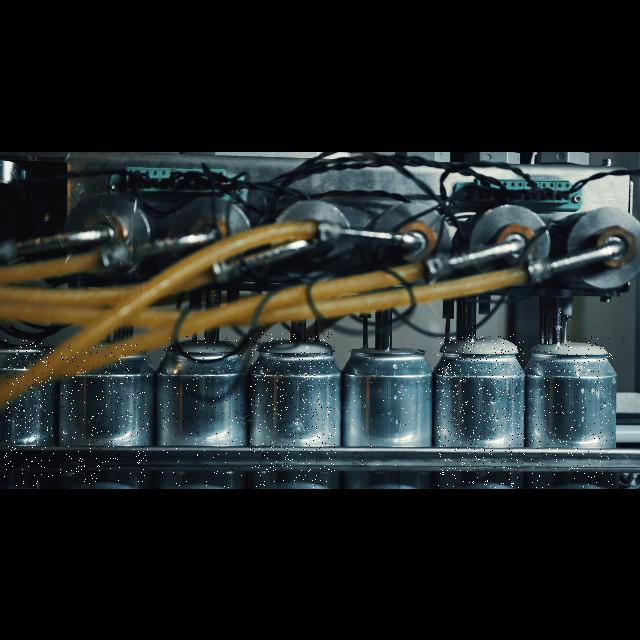empty: (343, 340, 431, 488), (60, 344, 148, 488), (4, 340, 54, 488)
full: (437, 334, 525, 488), (250, 332, 336, 488), (530, 336, 614, 488), (160, 336, 242, 488)
